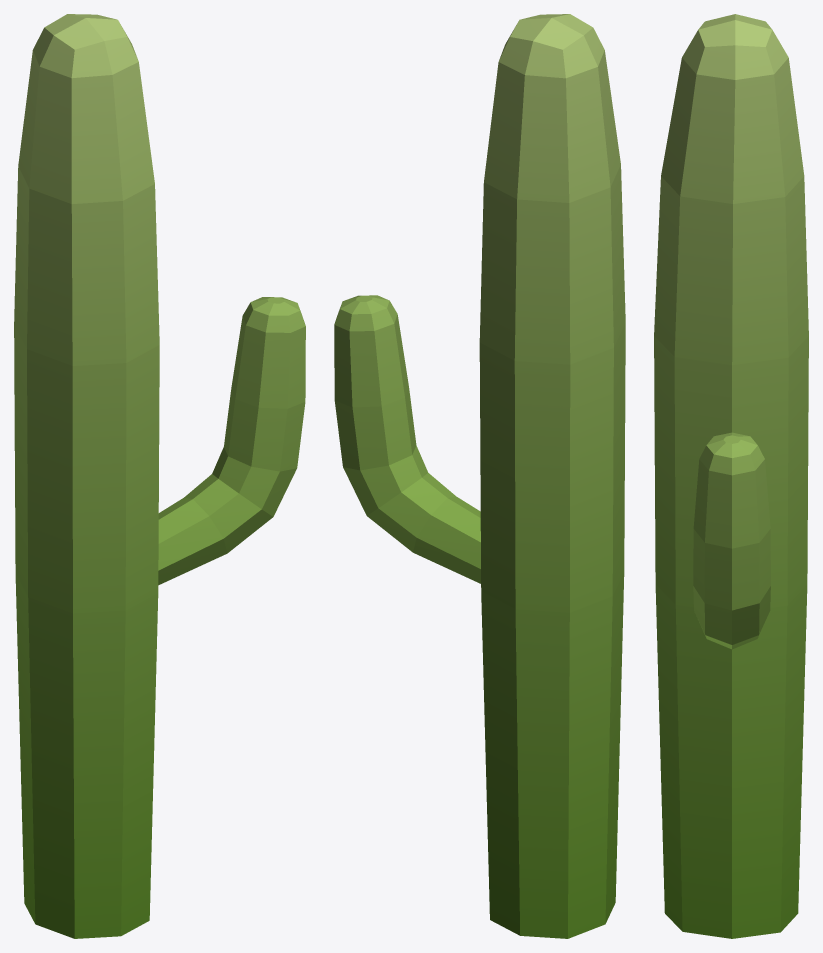
File: Cactus02.glb
3 renders of one model, left to right at view 1: azimuth 30°, elevation 25°; view 2: azimuth 150°, elevation 25°; view 3: azimuth 270°, elevation 25°, orthographic.
Parts seen in each view (by area): view 1: cactus_2; view 2: cactus_2; view 3: cactus_2.
Part boxes in pixels (x1,y1,x2,y2): cactus_2: (14, 14, 305, 938); cactus_2: (334, 14, 625, 938); cactus_2: (654, 14, 808, 938).
Bounding box in the file's own units: 79.3 × 245 × 38.56.
Materials: 1 (1 with a texture image).
